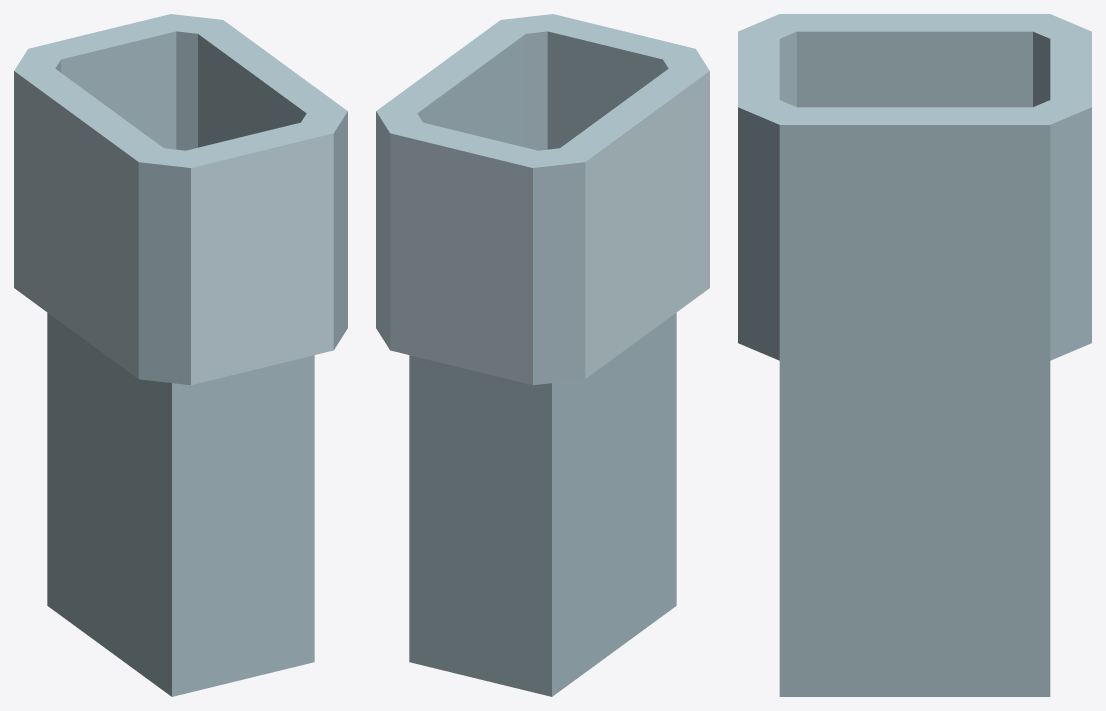
The picture shows the model from 3 angles, left to right: view 1: azimuth 30°, elevation 25°; view 2: azimuth 150°, elevation 25°; view 3: azimuth 270°, elevation 25°; orthographic projection. The views are drawn at different scales.
Visible parts, largest first — view 1: chimneyTop; view 2: chimneyTop; view 3: chimneyTop.
Part boxes in pixels (box(x1,y1,x2,y2)): chimneyTop: box(14, 14, 347, 696); chimneyTop: box(376, 14, 709, 696); chimneyTop: box(738, 14, 1091, 696).
Size of the model in its own units: 0.2519 by 0.625 by 0.34.
